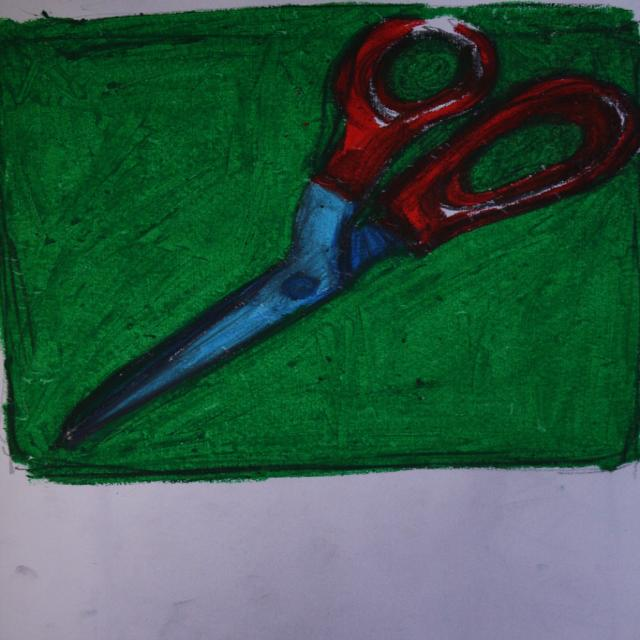scissors: (54, 14, 638, 450)
